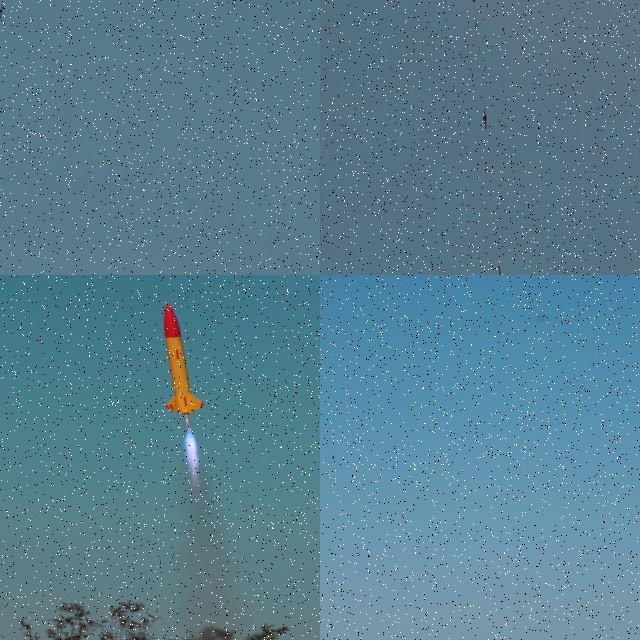Rocket: (162, 302, 207, 416), (498, 264, 503, 275)
